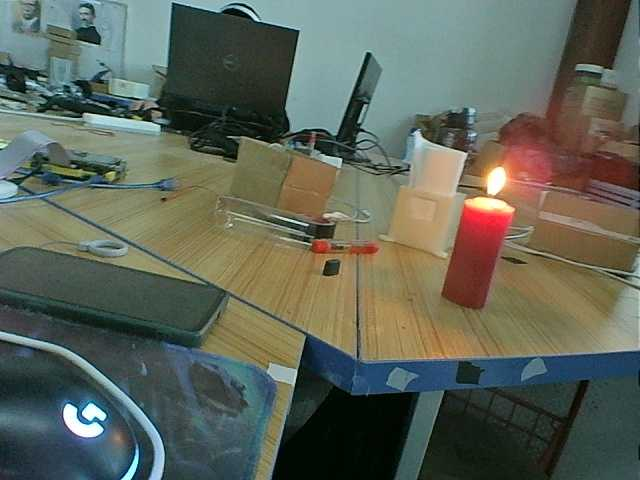candle: (437, 198, 512, 315)
fire: (464, 157, 520, 210)
